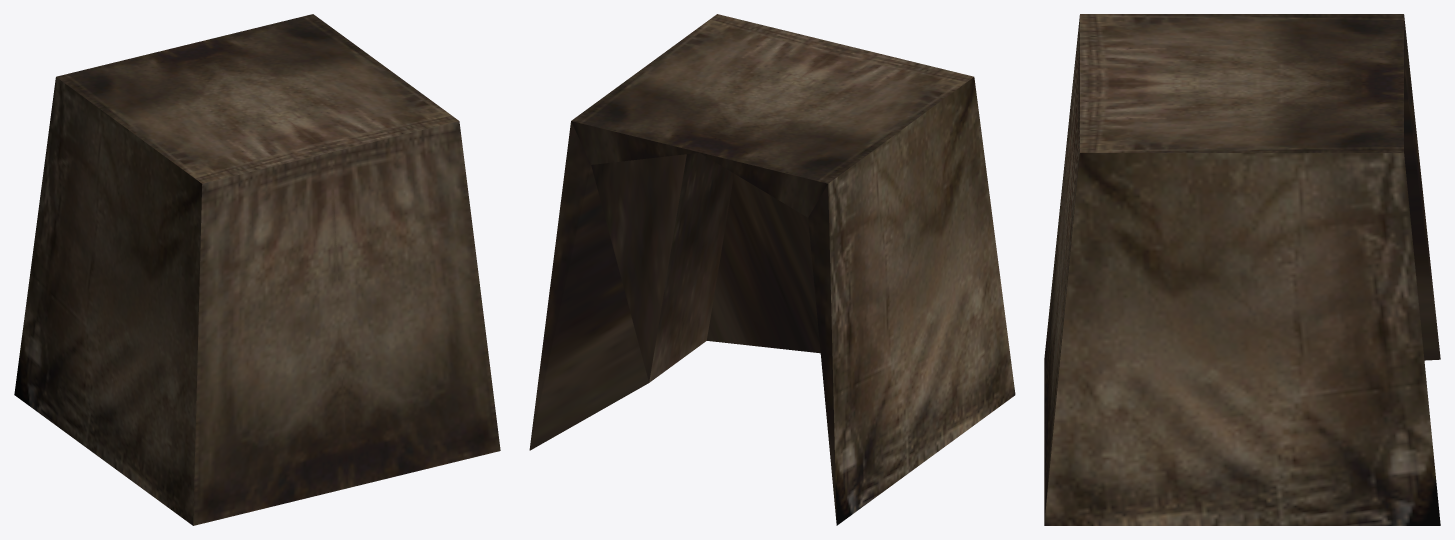
Rendered from arm_jacket_head.obj.
3 renders of one model, left to right at view 1: azimuth 30°, elevation 25°; view 2: azimuth 150°, elevation 25°; view 3: azimuth 270°, elevation 25°, orthographic. The views are drawn at different scales.
Visible parts, largest first — view 1: arm_jacket_head_Cube.003; view 2: arm_jacket_head_Cube.003; view 3: arm_jacket_head_Cube.003.
Part boxes in pixels (left/top/right/bottom): arm_jacket_head_Cube.003: left=14, top=14, right=500, bottom=525; arm_jacket_head_Cube.003: left=529, top=14, right=1015, bottom=525; arm_jacket_head_Cube.003: left=1044, top=14, right=1440, bottom=525.
Bounding box in the file's own units: 1.98 × 2 × 2.
